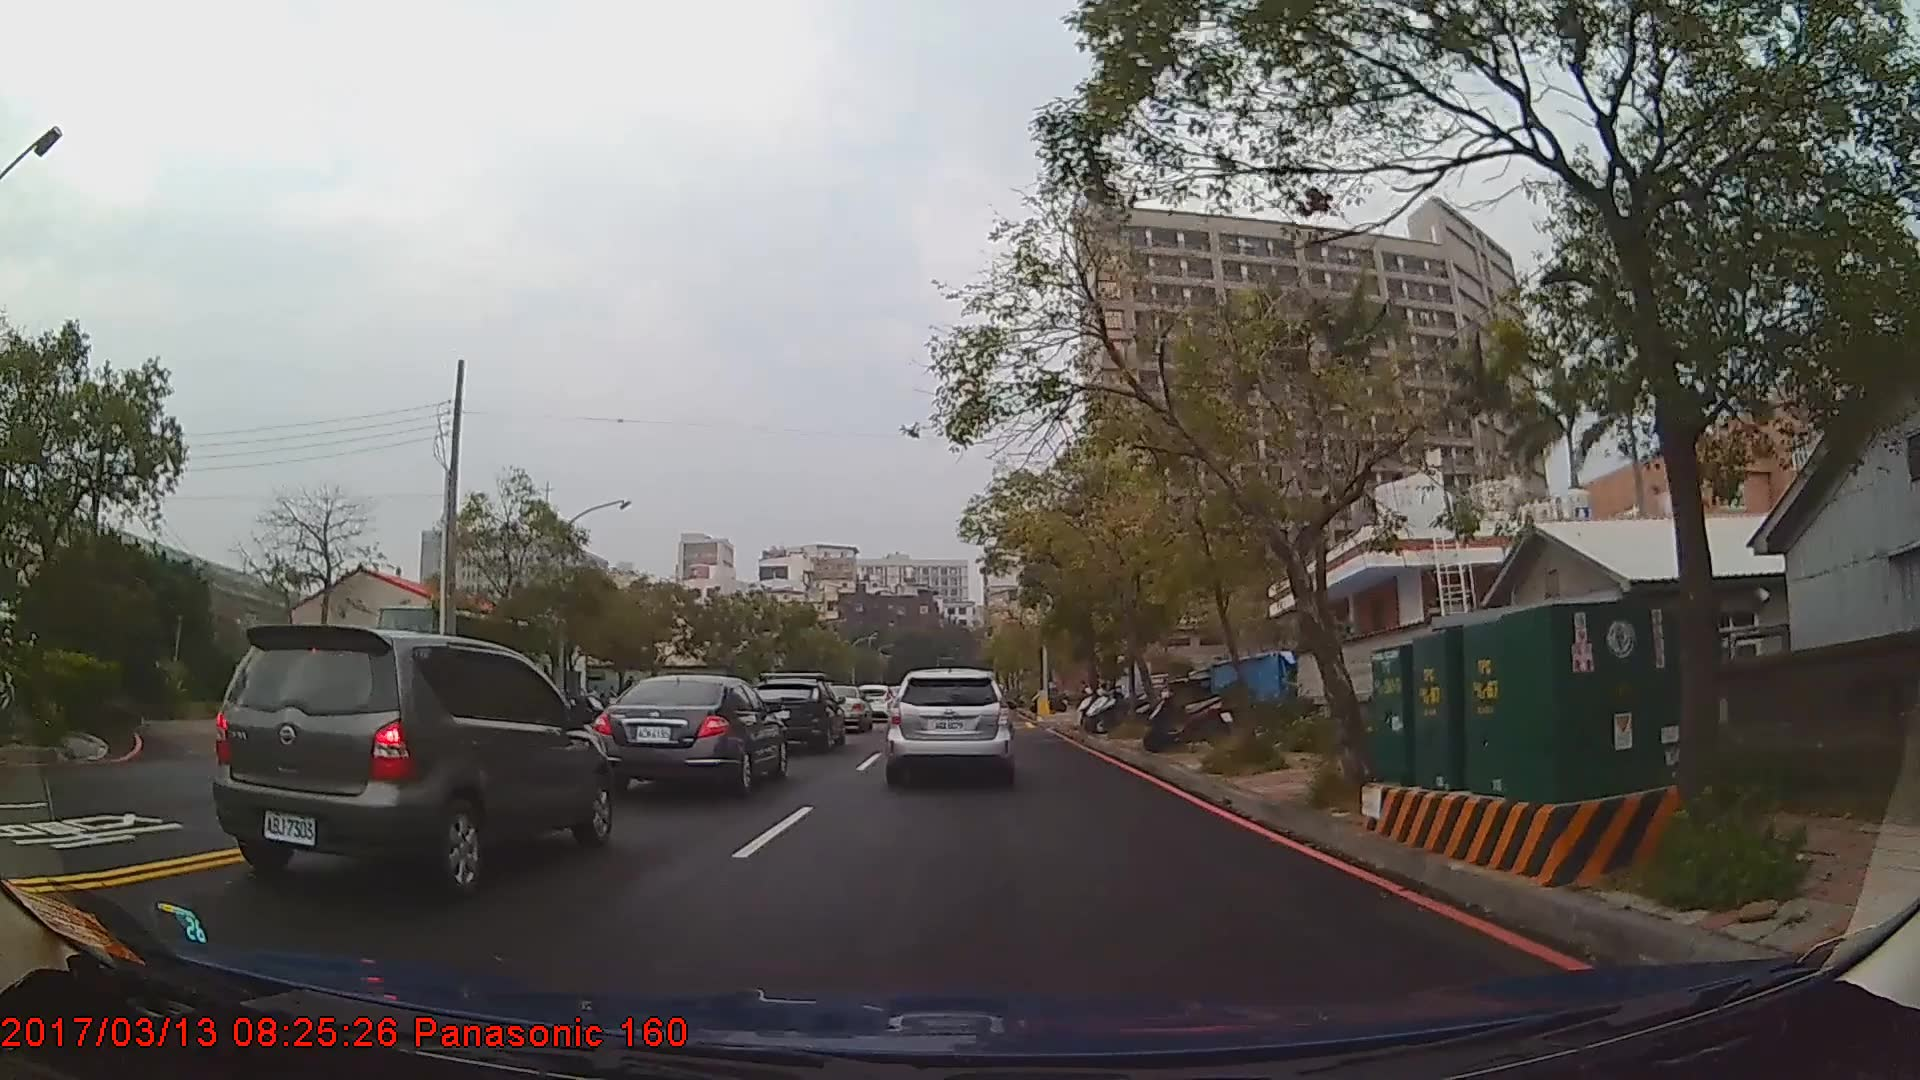vehicle: (211, 626, 612, 893), (593, 673, 789, 798), (885, 669, 1015, 785), (745, 678, 845, 752), (816, 684, 872, 732), (851, 684, 897, 723)
